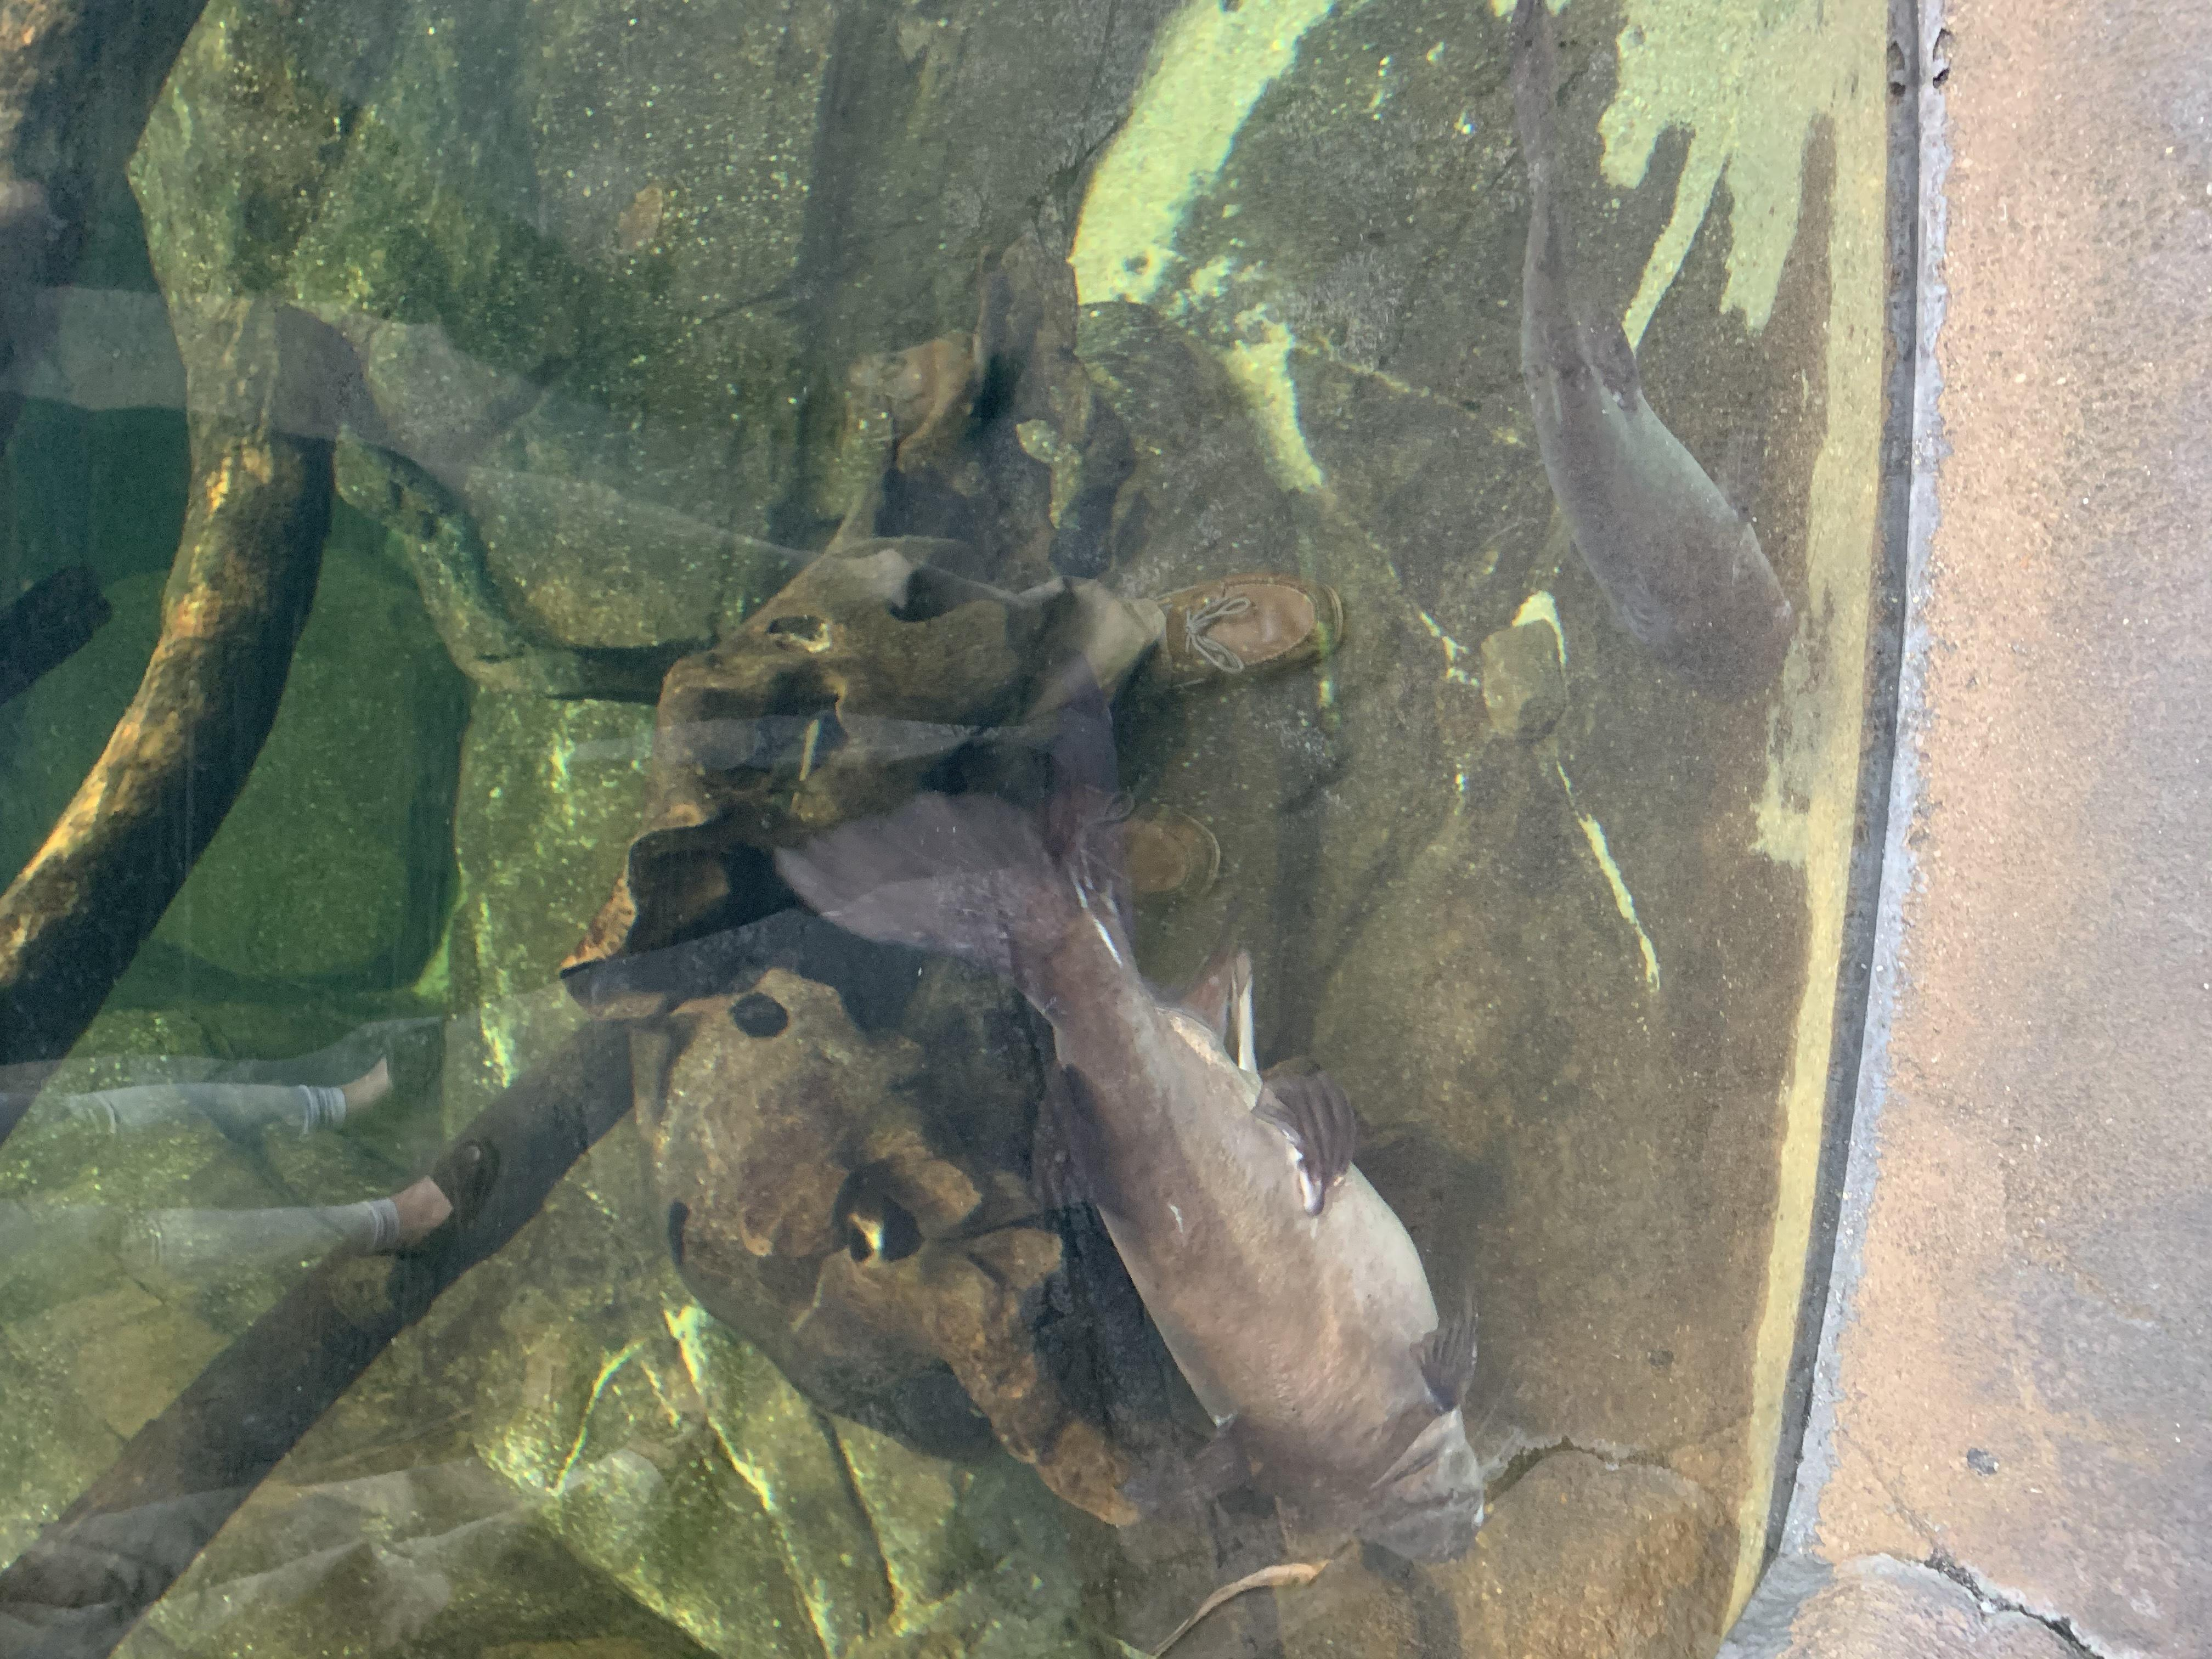fish: (765, 680, 1494, 1574), (1501, 38, 1808, 725)
